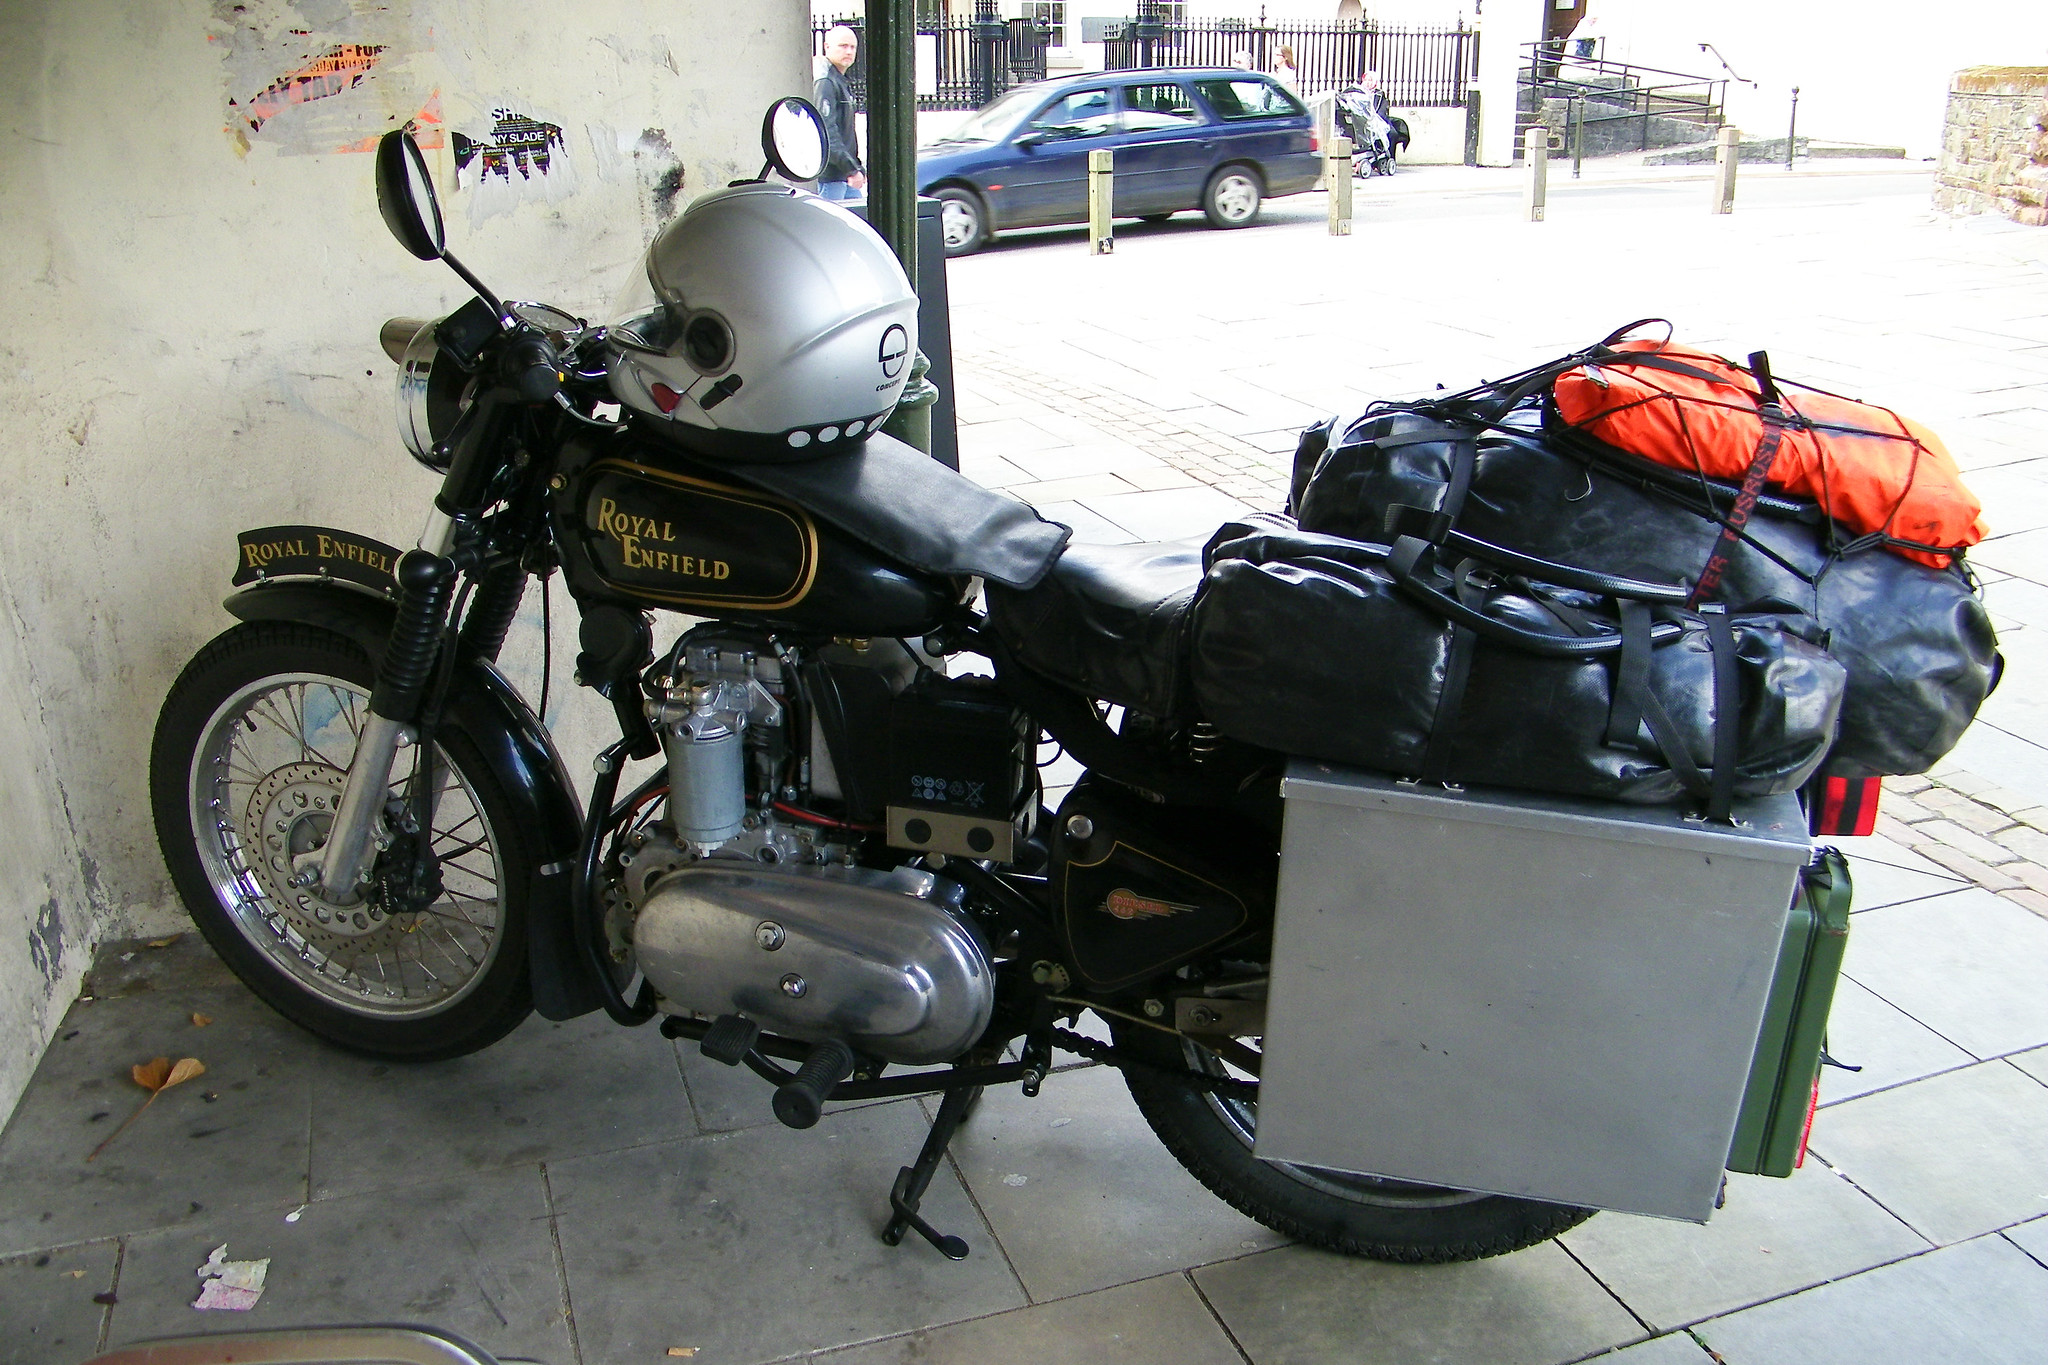motor bike: (167, 97, 1976, 1264)
